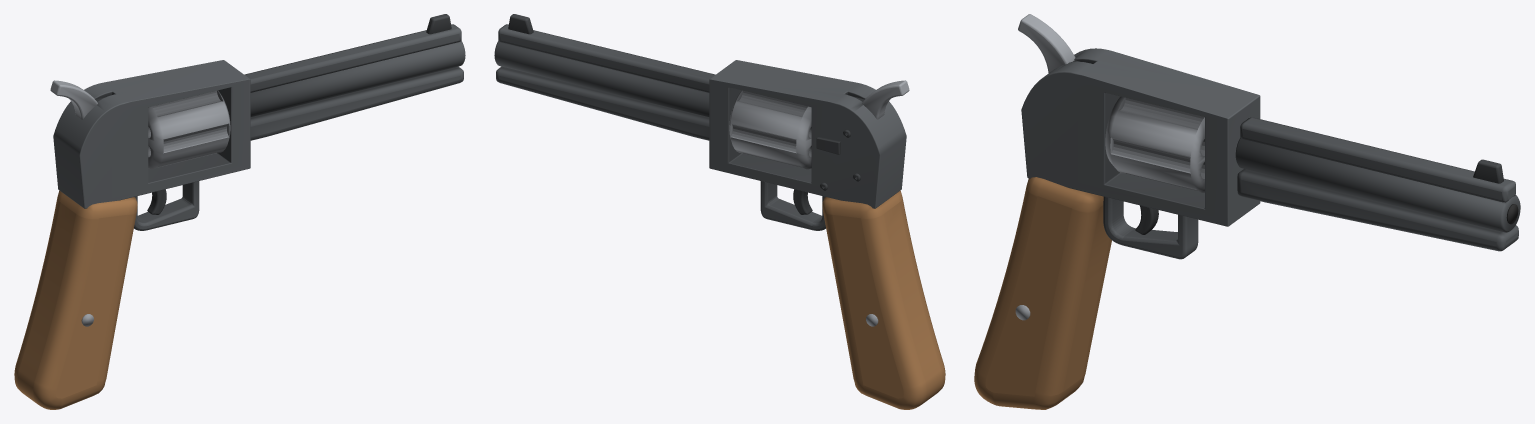
Rendered from revolver.glb.
The picture shows the model from 3 angles, left to right: view 1: azimuth 30°, elevation 25°; view 2: azimuth 150°, elevation 25°; view 3: azimuth 330°, elevation 25°; orthographic projection. The views are drawn at different scales.
Visible parts, largest first — view 1: grip_chequer, frame, barrel, cylinder, underlug, top_rib, guard, hammer; view 2: grip_chequer, frame, barrel, cylinder, underlug, top_rib, guard, hammer; view 3: frame, grip_chequer, barrel, cylinder, underlug, top_rib, guard, hammer, front_sight.
Boxes of the visible parts, bbox=[...] form: grip_chequer: bbox=[14, 190, 137, 409]; frame: bbox=[53, 60, 250, 208]; barrel: bbox=[250, 41, 465, 116]; cylinder: bbox=[148, 90, 230, 169]; underlug: bbox=[250, 66, 463, 140]; top_rib: bbox=[244, 24, 461, 92]; guard: bbox=[134, 181, 199, 230]; hammer: bbox=[50, 80, 97, 119]; grip_chequer: bbox=[822, 190, 945, 409]; frame: bbox=[709, 60, 906, 208]; barrel: bbox=[494, 41, 709, 116]; cylinder: bbox=[729, 90, 811, 169]; underlug: bbox=[496, 66, 709, 140]; top_rib: bbox=[498, 24, 715, 92]; guard: bbox=[760, 181, 825, 230]; hammer: bbox=[862, 80, 909, 119]; frame: bbox=[1021, 48, 1260, 226]; grip_chequer: bbox=[974, 177, 1111, 409]; barrel: bbox=[1235, 137, 1520, 232]; cylinder: bbox=[1105, 96, 1204, 192]; underlug: bbox=[1237, 169, 1518, 251]; top_rib: bbox=[1240, 117, 1515, 202]; guard: bbox=[1103, 196, 1198, 259]; hammer: bbox=[1018, 14, 1075, 73]; front_sight: bbox=[1473, 159, 1503, 183].
Size of the model in its own units: 0.2635 by 0.1837 by 0.039.
